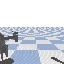drone: (0, 31, 18, 61)
